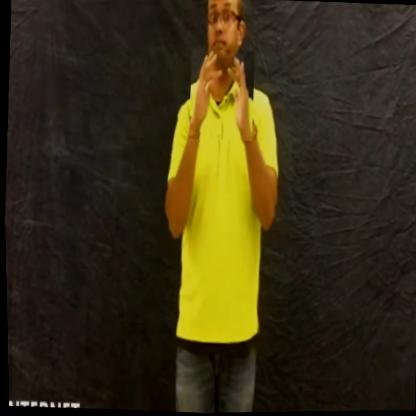Internet: (186, 48, 256, 142)
